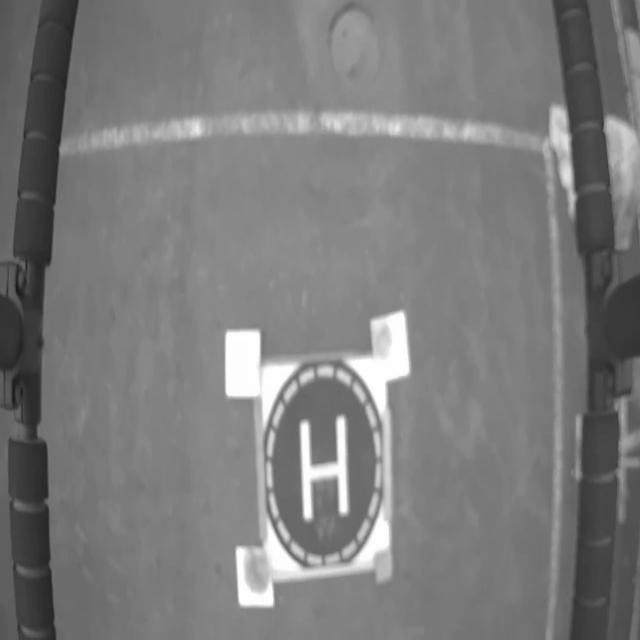Helipad: (300, 414, 350, 521)
